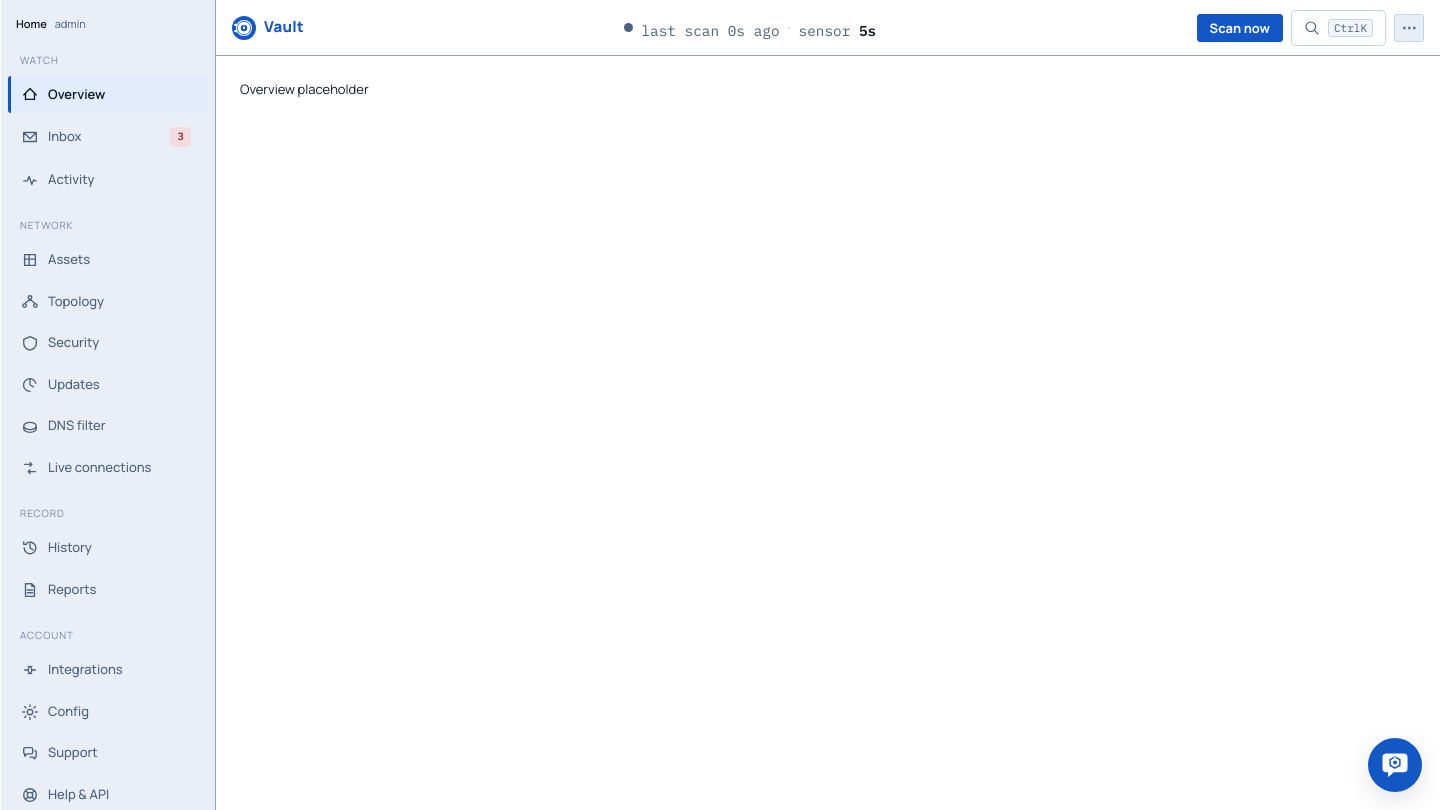
Test: the wallboard (task 78) › opens a big-figure view off the ⛶ button, not the Fullscreen API
Check: the text "Overview placeholder" is shown, box [240,80,369,98]
Click the button named "more actions" at (1409,28), box [1394,14,1424,42]
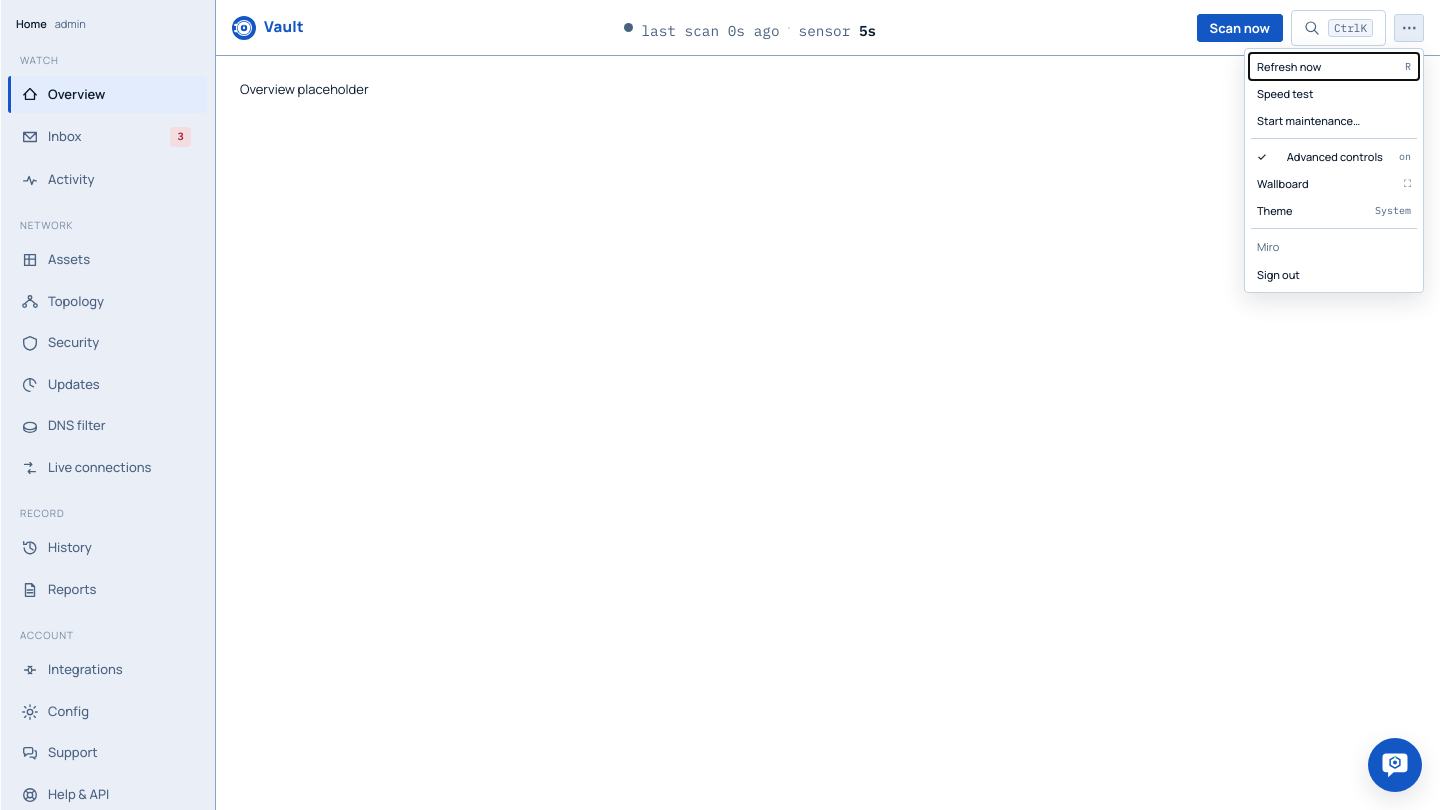
Click the menu item with aria-label "open the wallboard" at (1334,183), box [1249,170,1419,196]
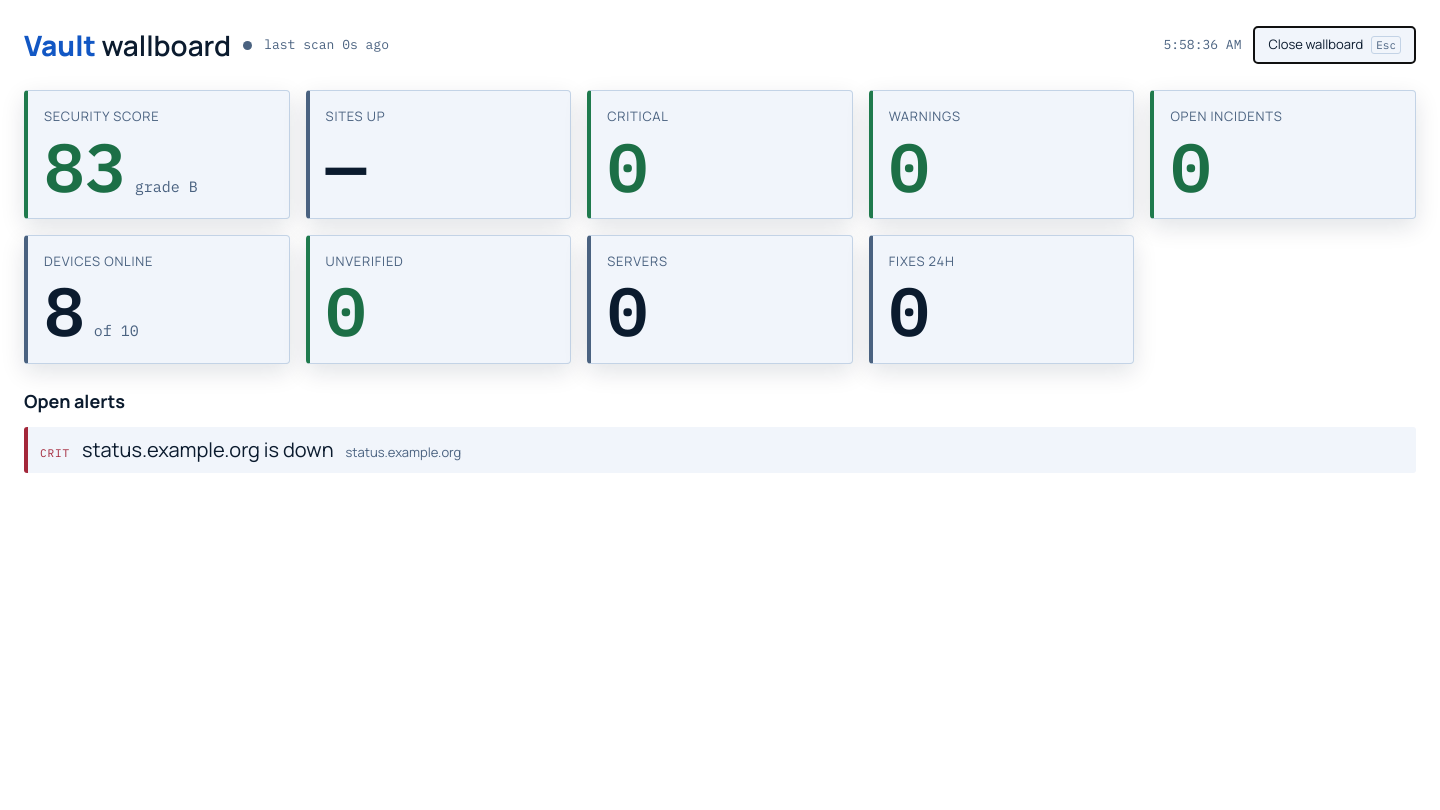
Check: the text "Security score" is shown, box [44,107,160,125]
Check: the text "83 grade B" is shown, box [44,122,198,210]
Check: the text "status.example.org is down" is shown, box [82,435,334,465]
